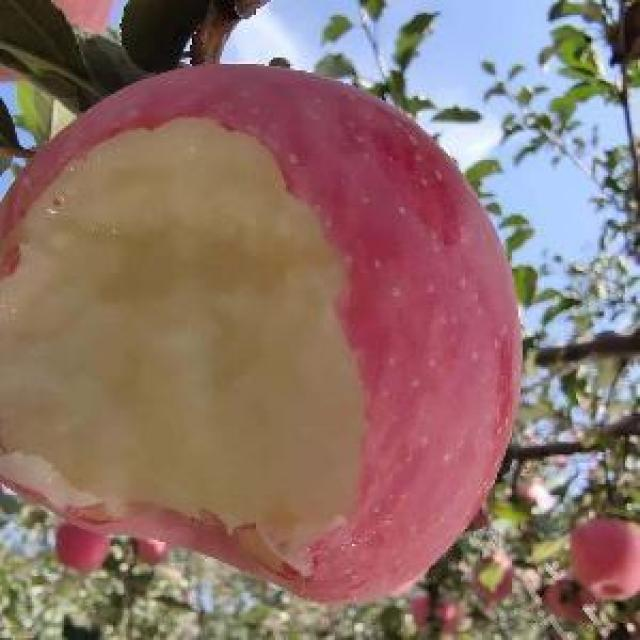Rotten: (7, 68, 517, 604)
